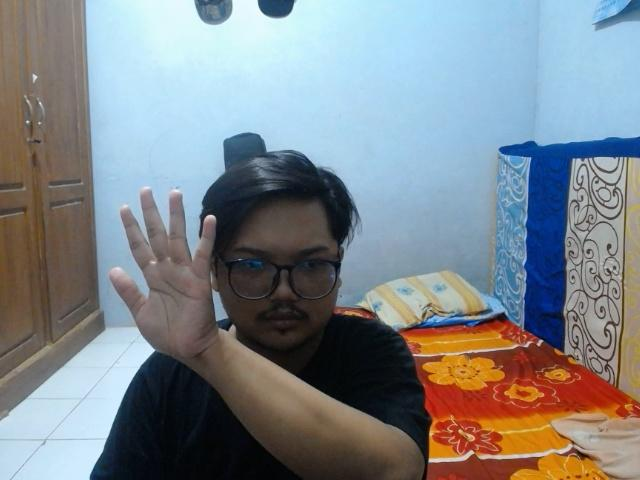Release: (106, 183, 221, 363)
